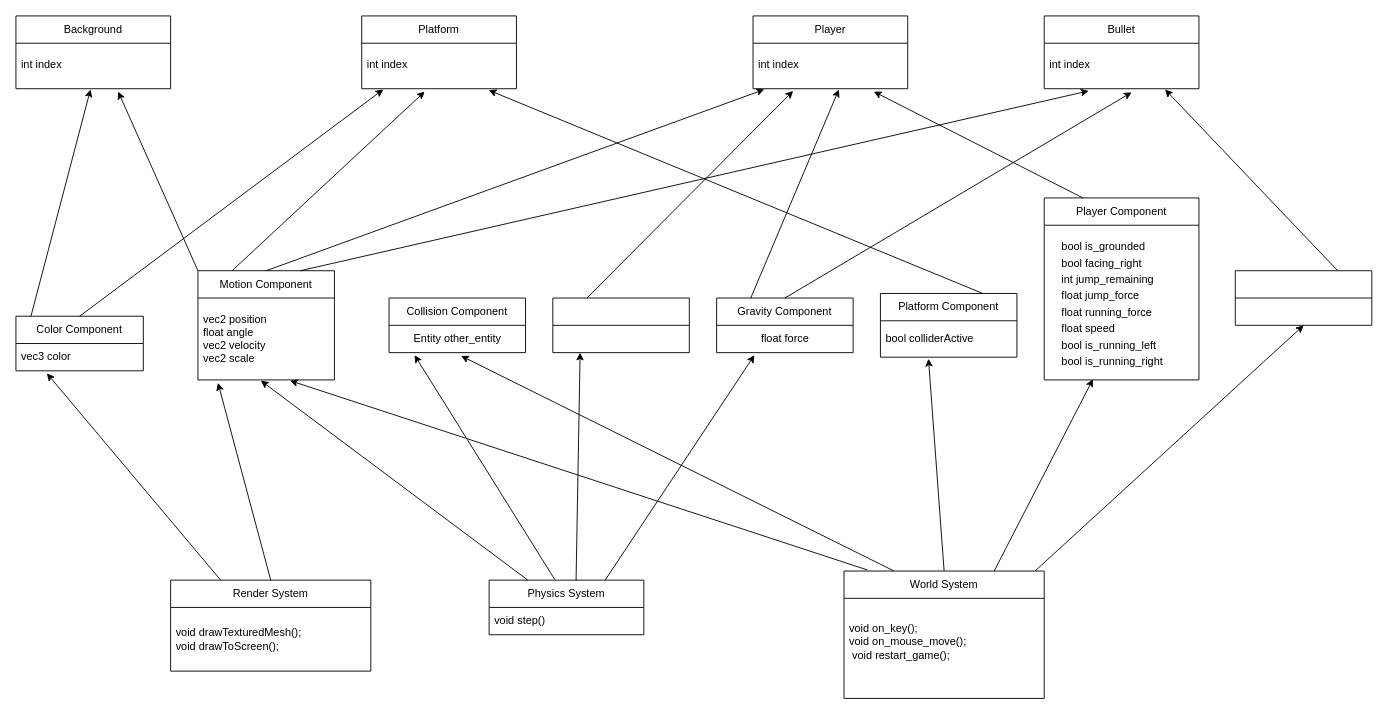
This 1388x714 diagram has some shape labels left out. The shapes that lost their labels are listed below. From the top down, each one's centre as x and y in pixels, then its label:
point 1303,297: Bullet Component
point 620,325: Friction Component
